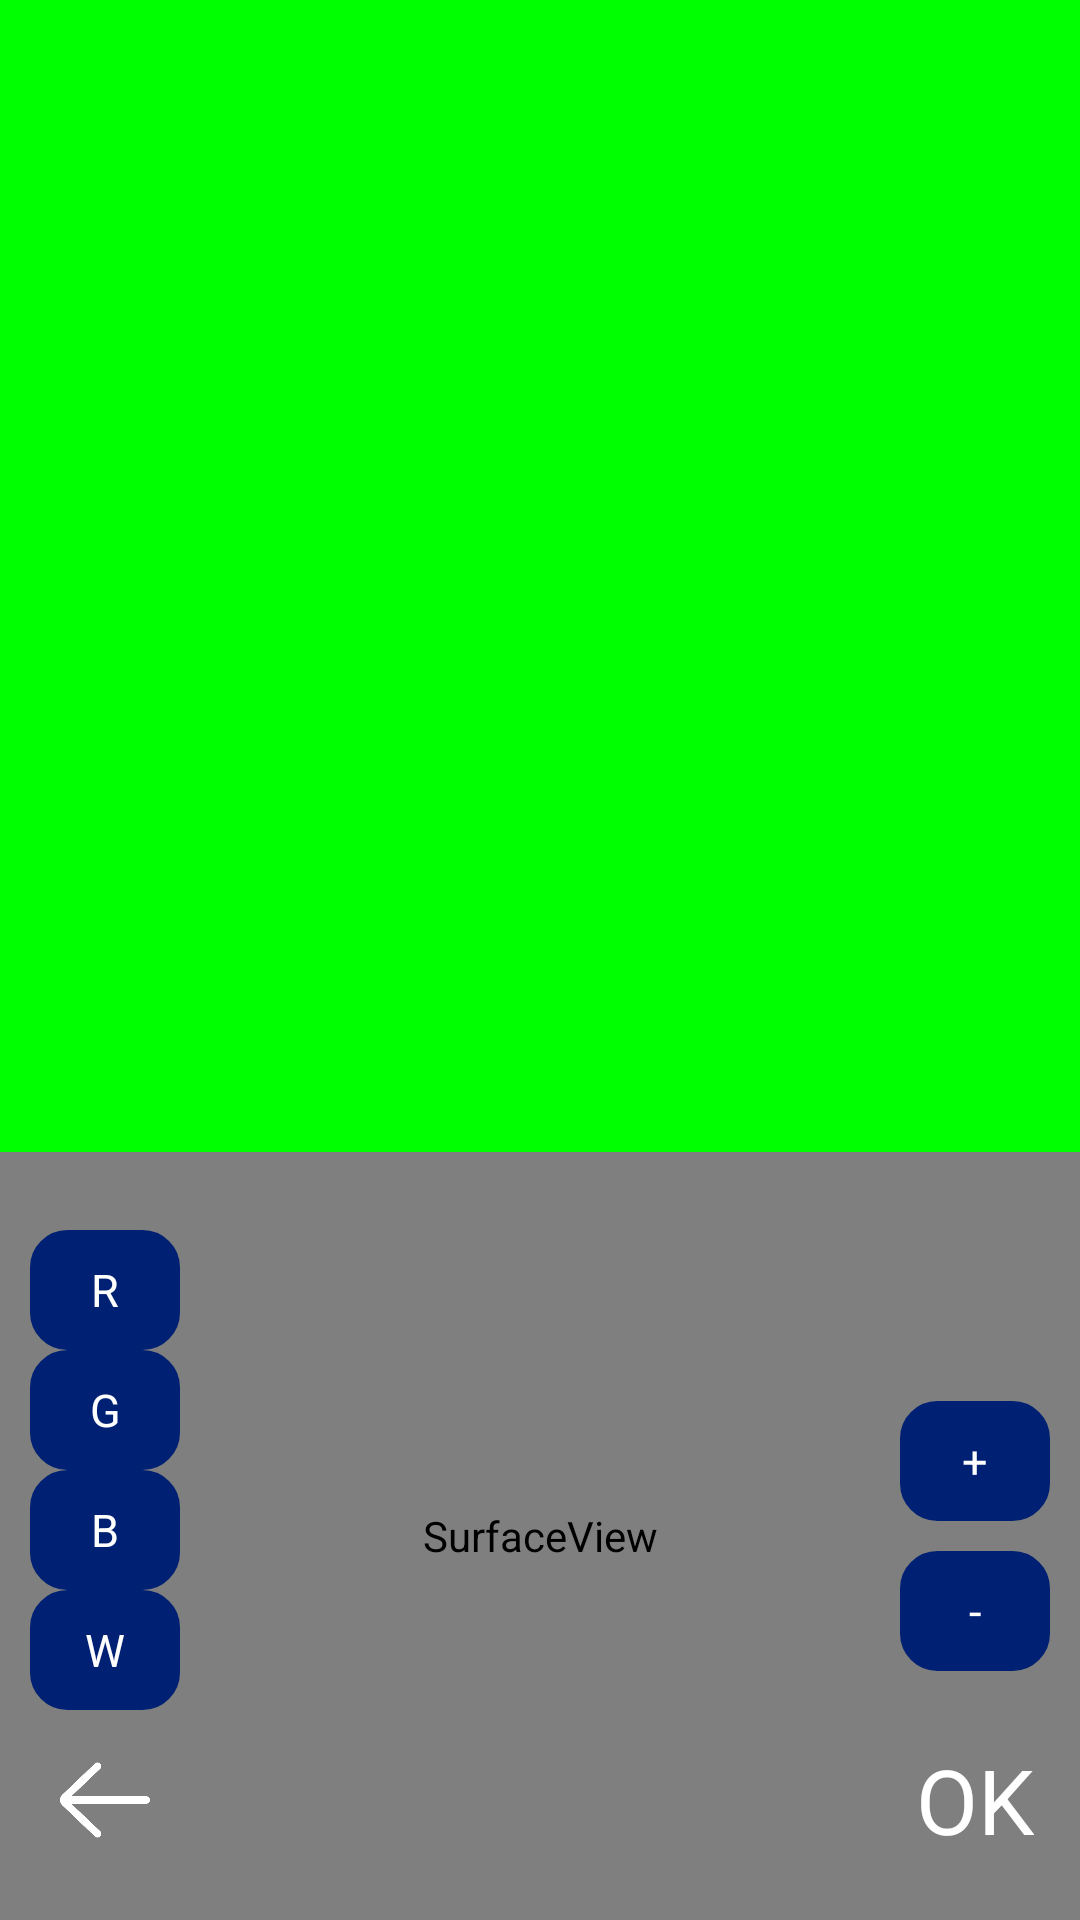

Locate icon controls on the screen. Image size 1080 x 1920, boxes as (x1, y1, x2, y2).
back: (60, 1762, 150, 1838)
